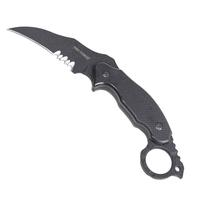knife: (4, 22, 185, 177)
